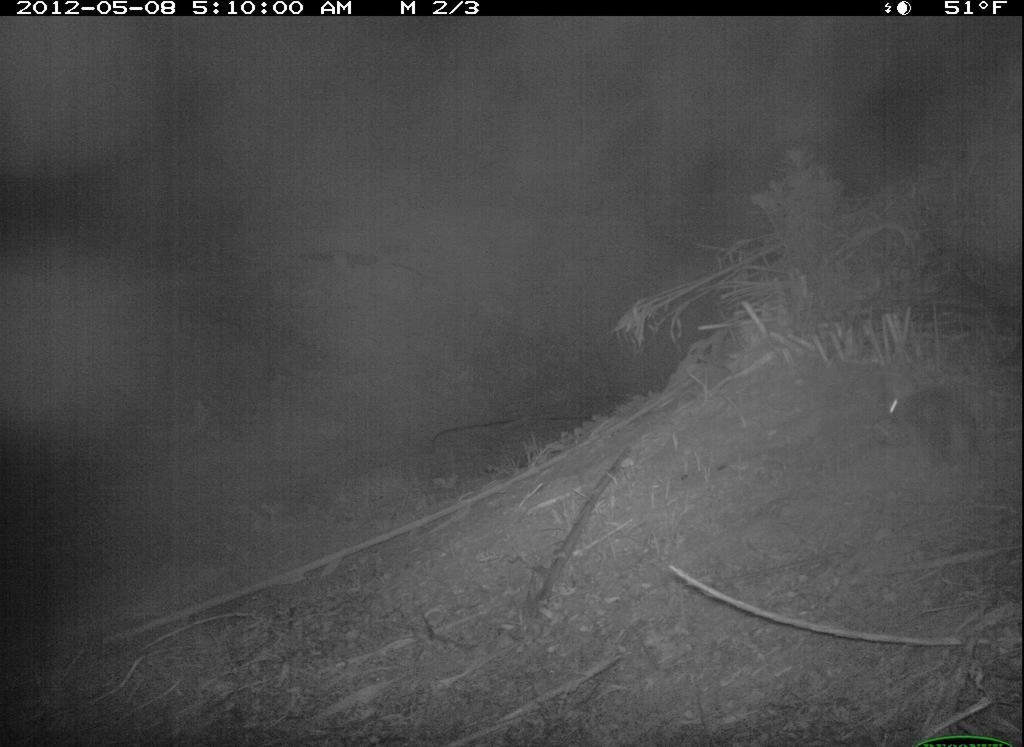rabbit: (876, 369, 995, 475)
